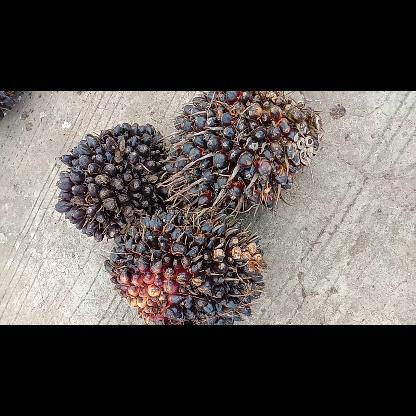TBS mentah: (160, 92, 328, 212), (101, 206, 269, 324), (52, 121, 170, 243)
